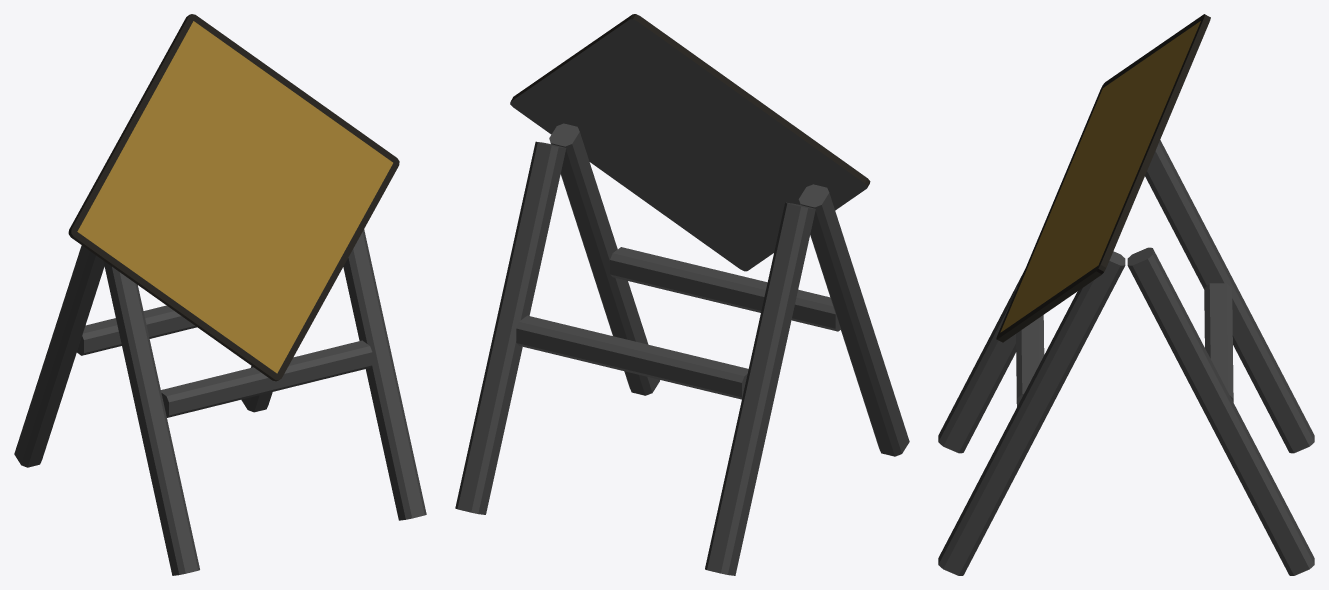
File: RoadworkSign.fbx
3 renders of one model, left to right at view 1: azimuth 30°, elevation 25°; view 2: azimuth 150°, elevation 25°; view 3: azimuth 270°, elevation 25°, orthographic. The views are drawn at different scales.
Parts seen in each view (by area): view 1: pCube6; view 2: pCube6; view 3: pCube6.
Part boxes in pixels (<box>): pCube6: <box>14,14,426,575</box>; pCube6: <box>455,14,909,575</box>; pCube6: <box>938,14,1314,575</box>.
Size of the model in its own units: 11.43 by 15.08 by 10.28.
